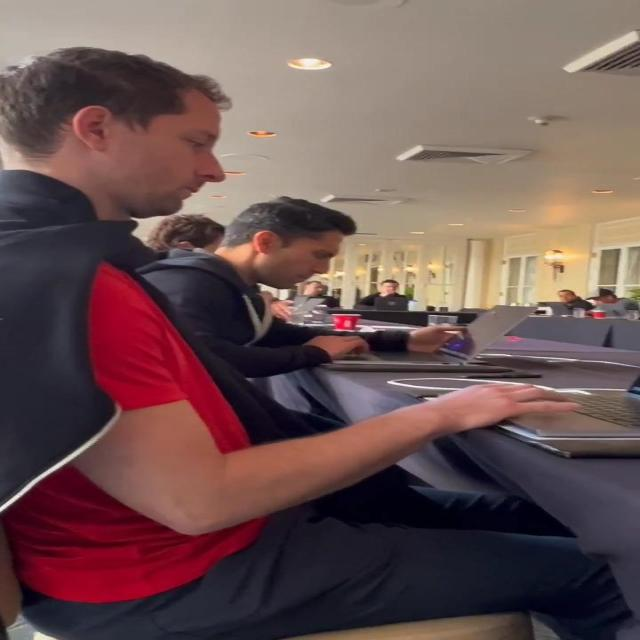NO-Mask: (97, 92, 227, 216), (262, 231, 342, 289), (307, 284, 324, 296), (559, 292, 573, 303), (384, 283, 397, 294), (595, 298, 611, 304)
